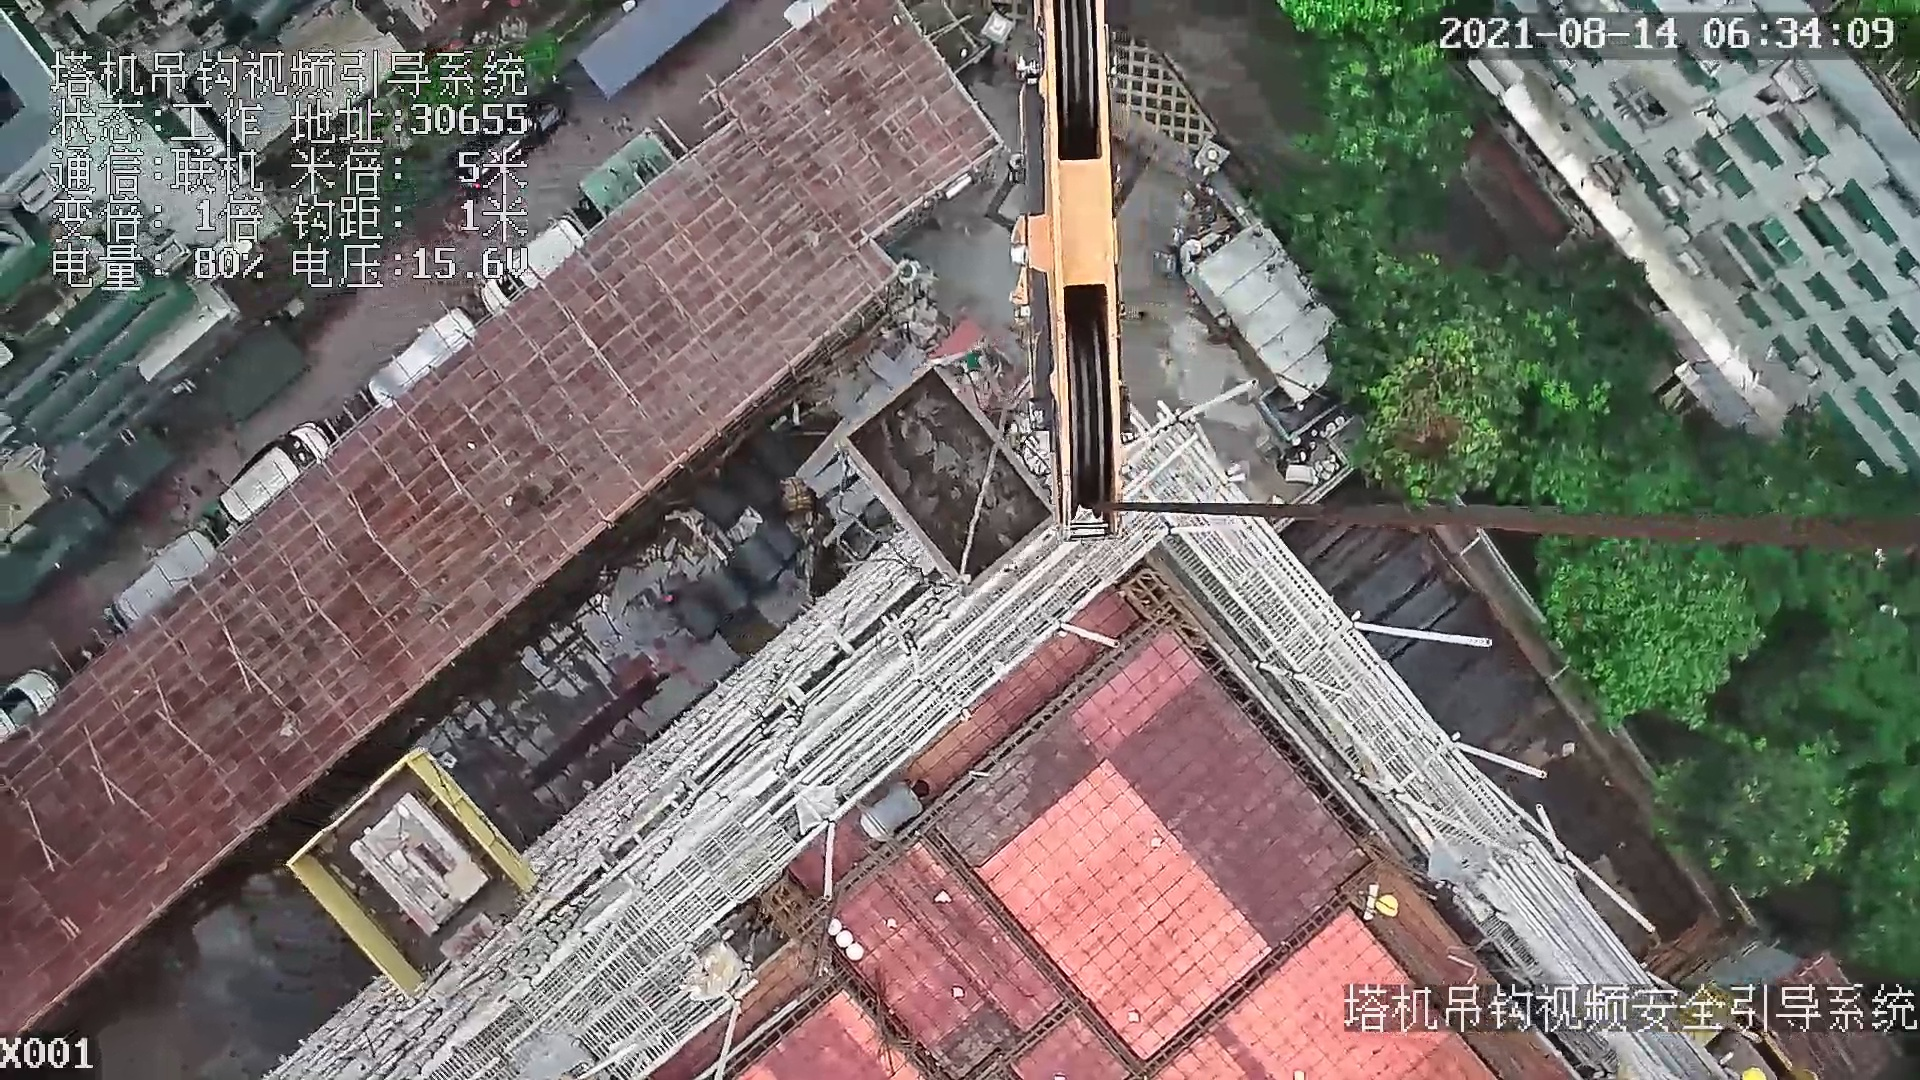helmet: (1375, 887, 1402, 921)
hook: (991, 3, 1138, 532)
hopper: (841, 358, 1059, 592)
person: (850, 773, 945, 854)
